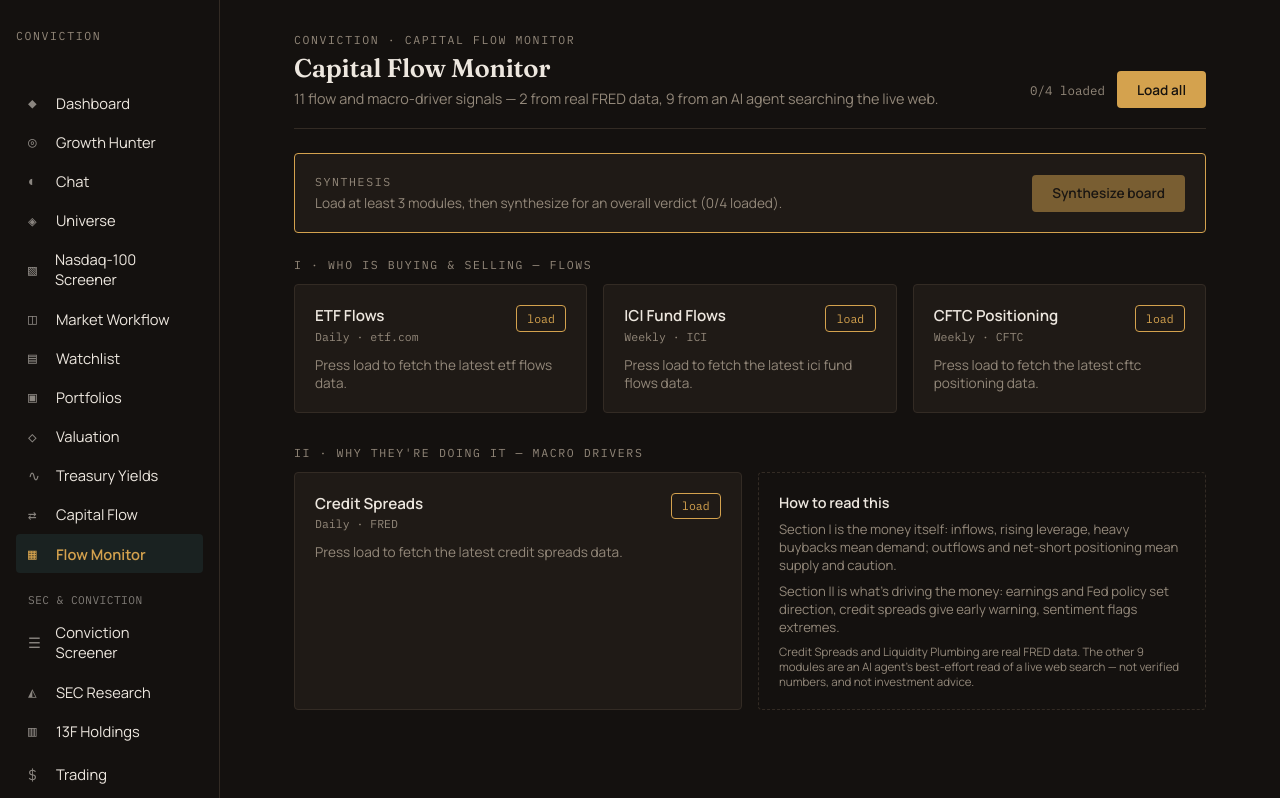
Test: Capital Flow Monitor page › loading a single module shows its real data
Expected: the text "ETF Flows" is shown, [315,305,384,326]
Click the button "load" next to "etf.com" at (541, 318), box [516,305,566,332]
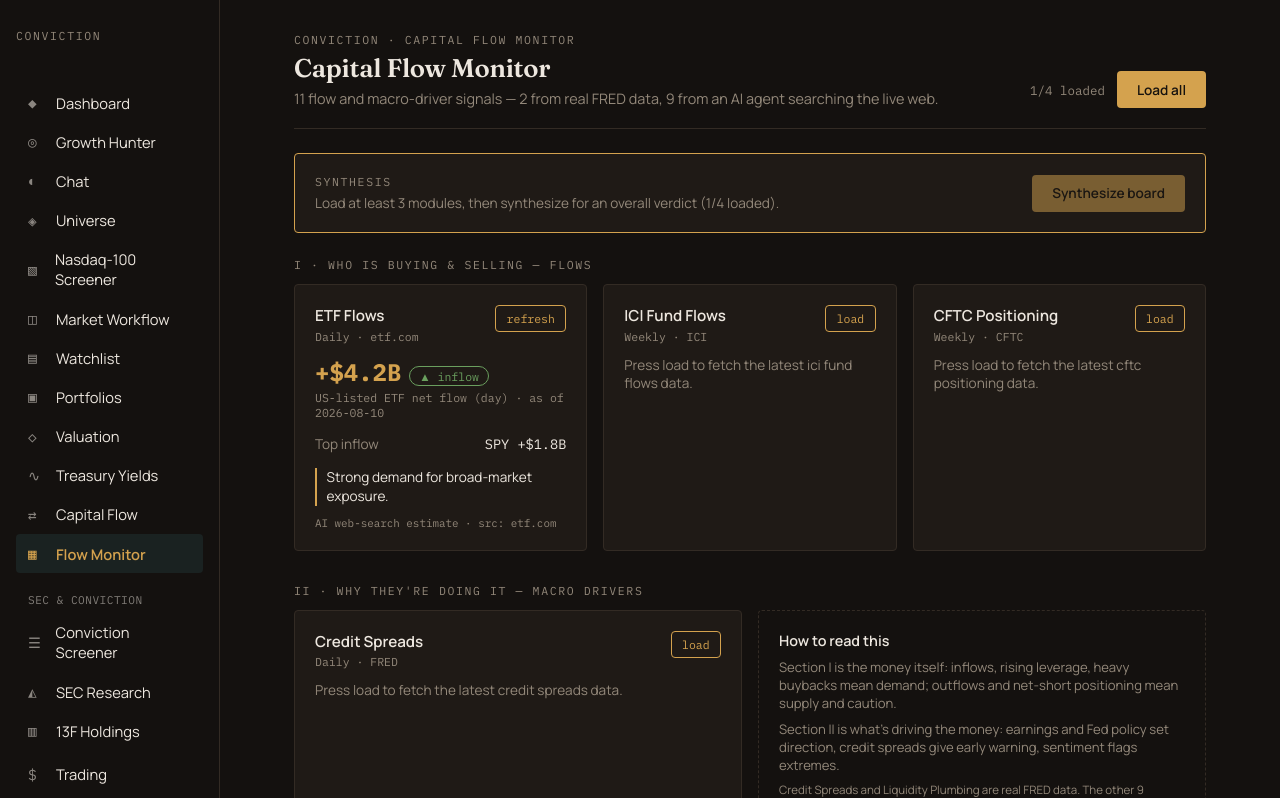
Result: the text "+$4.2B" is shown at [315,356,401,388]
Result: the text "SPY +$1.8B" is shown at [485,435,566,453]
